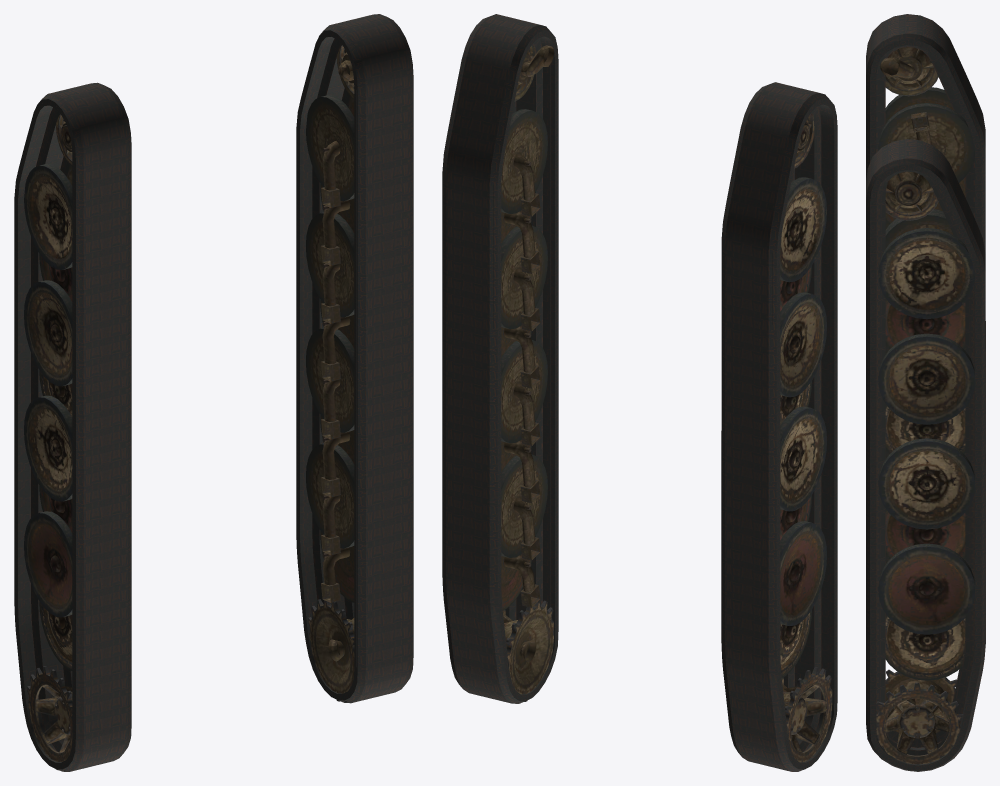
File: Chassis_01.glb
The picture shows the model from 3 angles, left to right: view 1: azimuth 30°, elevation 25°; view 2: azimuth 150°, elevation 25°; view 3: azimuth 270°, elevation 25°; orthographic projection. The views are drawn at different scales.
Parts seen in each view (by area): view 1: set_0_group_0, set_1_group_0, set_3_group_0, set_2_group_0; view 2: set_0_group_0, set_1_group_0, set_3_group_0, set_2_group_0; view 3: set_3_group_0, set_1_group_0, set_0_group_0, set_2_group_0.
Boxes of the visible parts, x1,y1,x2,y2 form: set_0_group_0: (14,82,131,771); set_1_group_0: (296,14,413,703); set_3_group_0: (306,45,354,702); set_2_group_0: (24,114,72,770); set_0_group_0: (721,82,837,771); set_1_group_0: (442,14,558,703); set_3_group_0: (501,44,554,702); set_2_group_0: (780,113,832,762); set_3_group_0: (876,171,974,771); set_1_group_0: (866,139,985,771); set_0_group_0: (866,14,985,453); set_2_group_0: (878,47,974,232).
Bounding box in the file's own units: 3.16 × 6.03 × 1.07.
4 materials, 4 textured.
